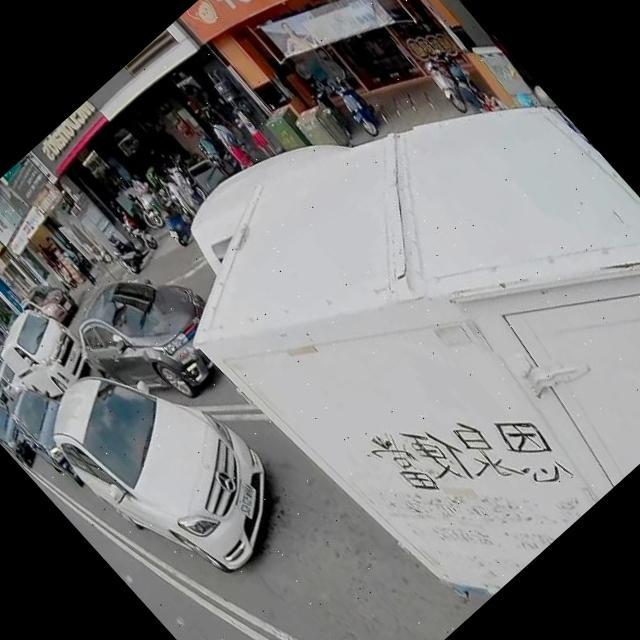person: (222, 99, 280, 160), (201, 111, 258, 171), (438, 58, 492, 115), (124, 170, 174, 224), (154, 170, 204, 222), (164, 158, 208, 206), (59, 242, 100, 286), (196, 96, 226, 128)
